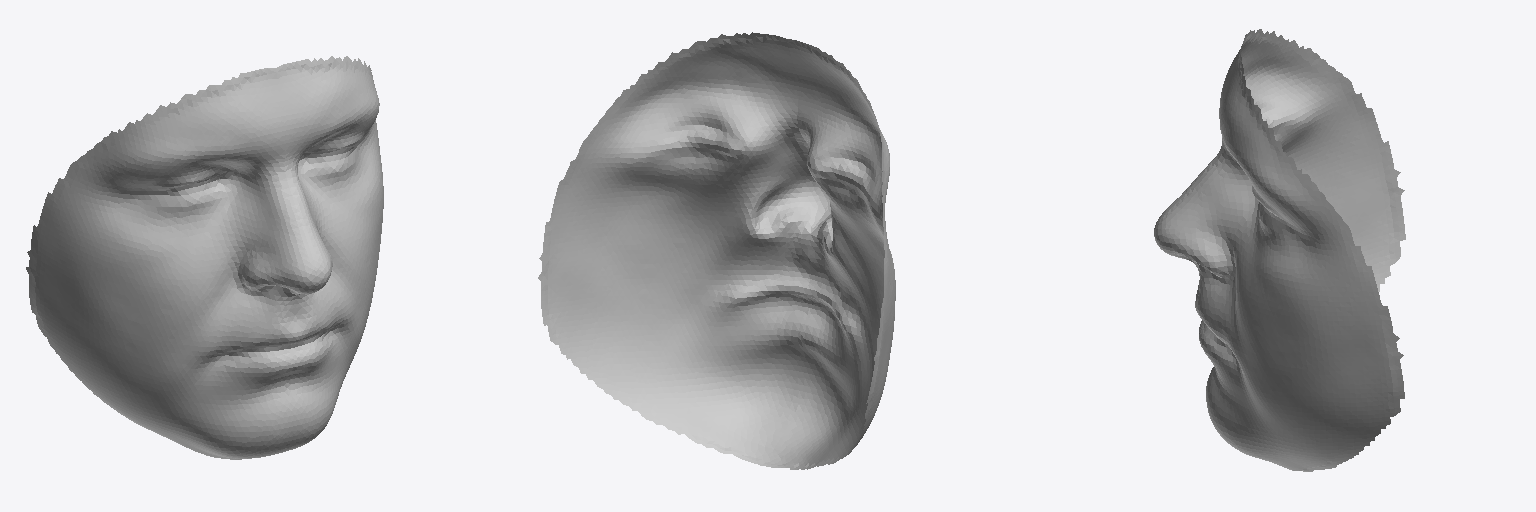
Rendered from SIMPOP_25.obj.
The picture shows the model from 3 angles: view 1: azimuth 30°, elevation 25°; view 2: azimuth 150°, elevation 25°; view 3: azimuth 270°, elevation 25°; orthographic projection.
Visible parts, largest first — view 1: SIMPOP_25; view 2: SIMPOP_25; view 3: SIMPOP_25.
Part boxes in pixels (x1,y1,x2,y2): SIMPOP_25: (26,56,383,459); SIMPOP_25: (538,32,895,469); SIMPOP_25: (1154,29,1405,471).
Size of the model in its own units: 161 by 186 by 104.